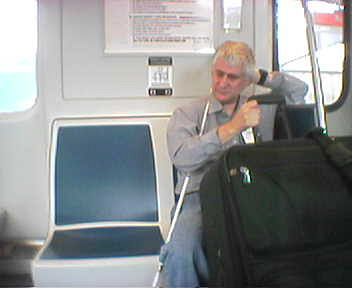person: (162, 39, 308, 288)
